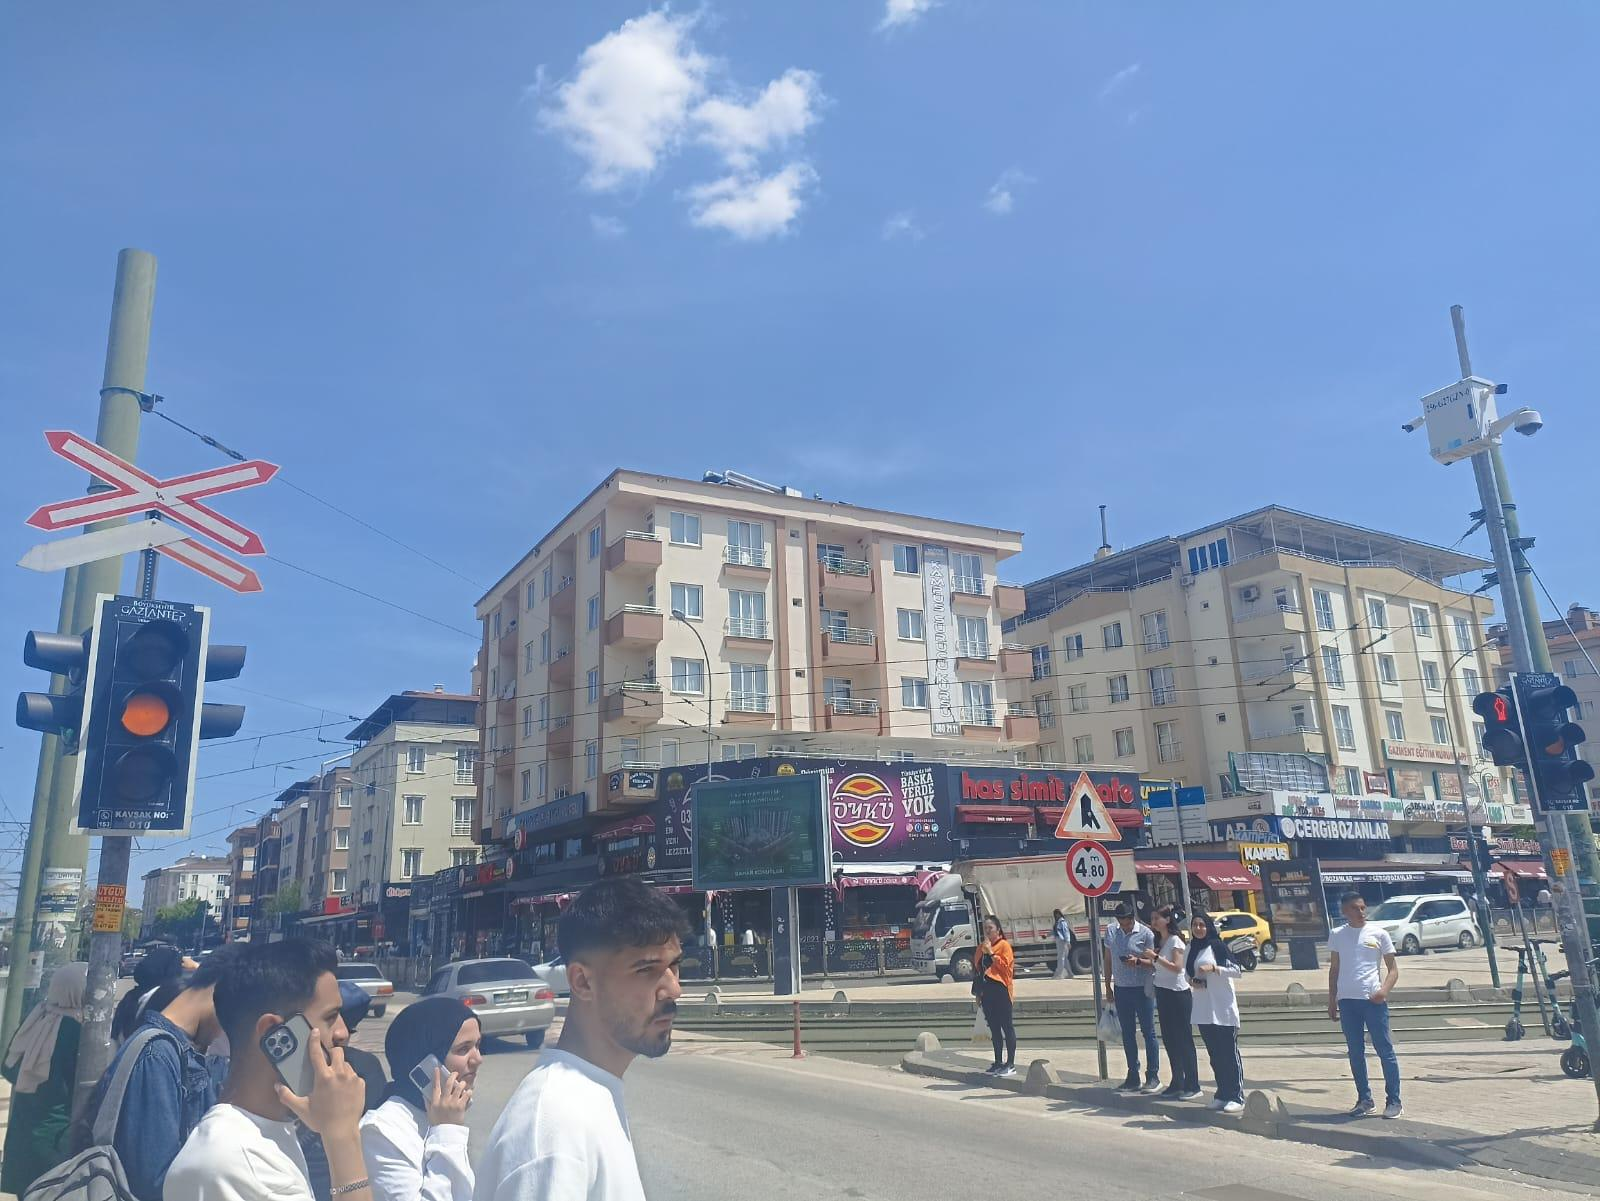yellowlight: (97, 603, 196, 843)
